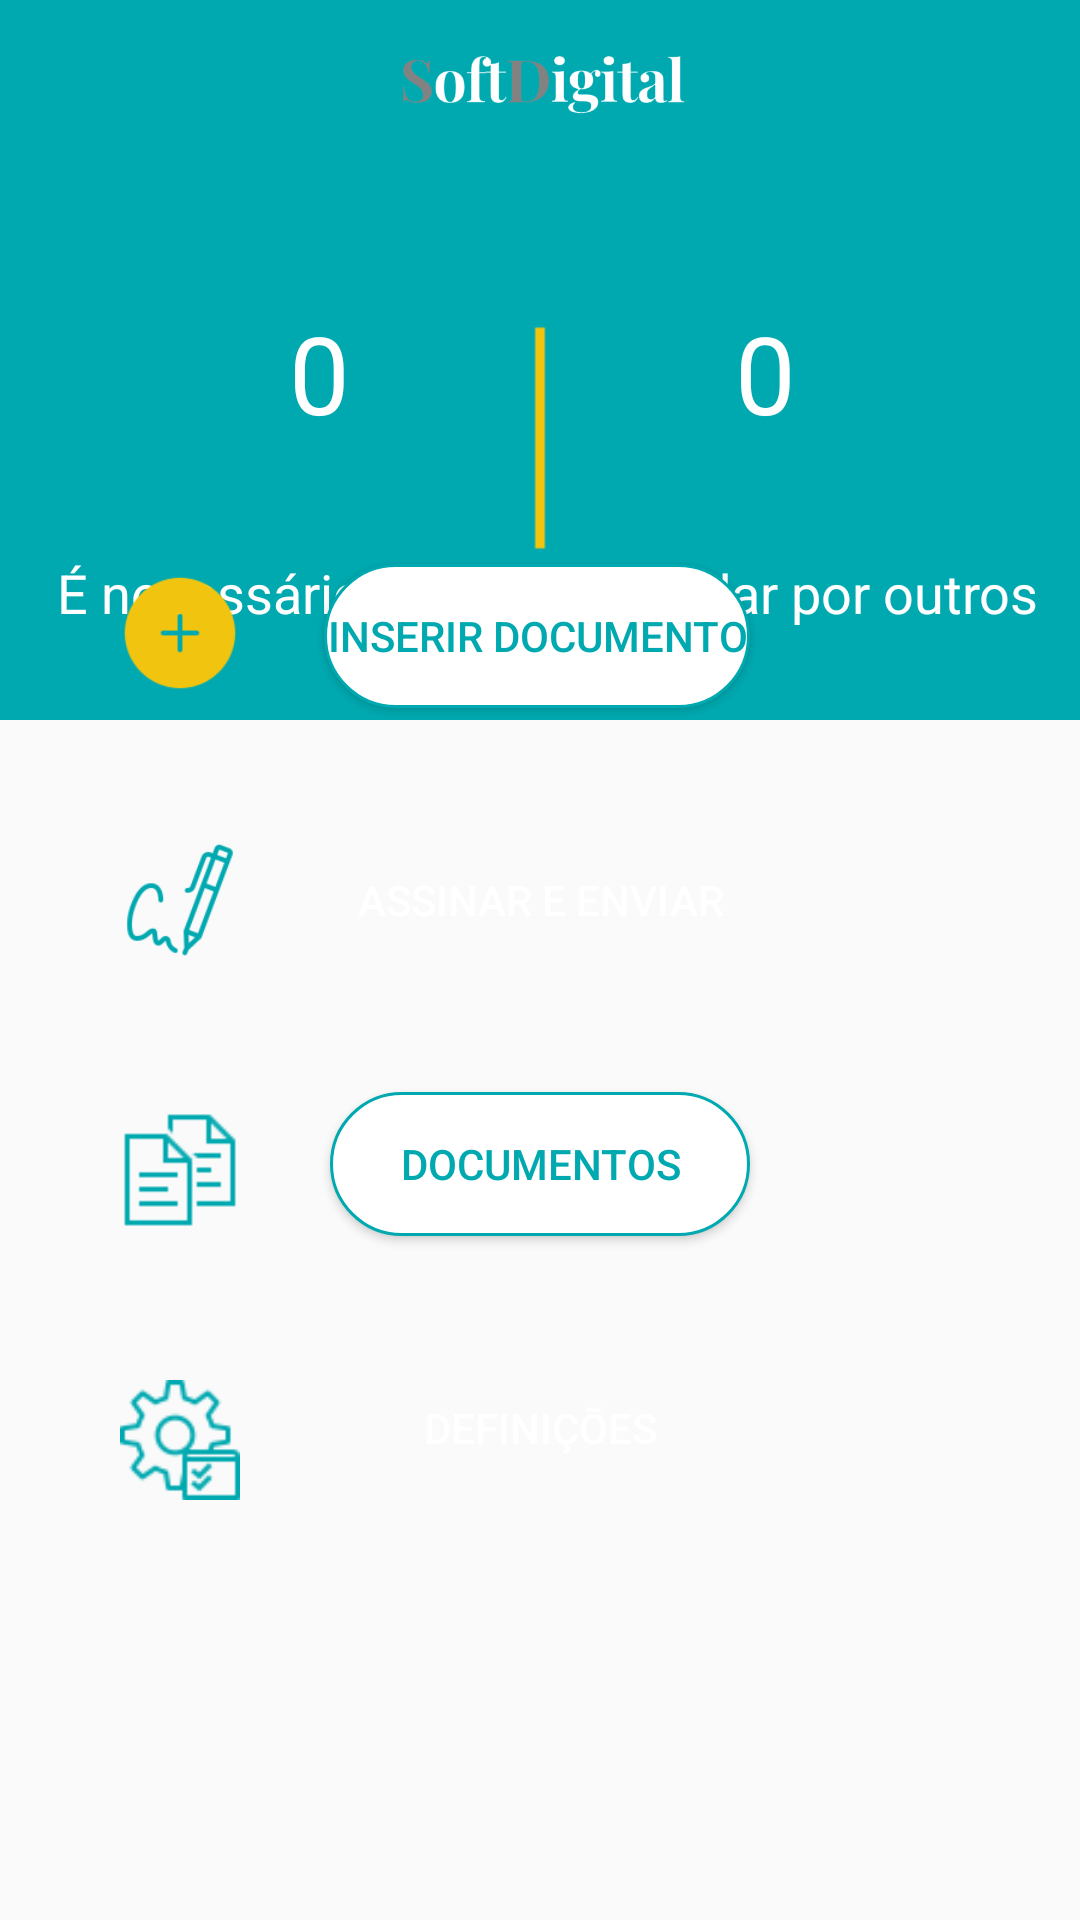

Icons on this 1080*1920 Android screen, each with the point to tap as (x=x, y=y):
add: (x=180, y=633)
assinatura: (x=180, y=900)
ferramentas: (x=180, y=1440)
